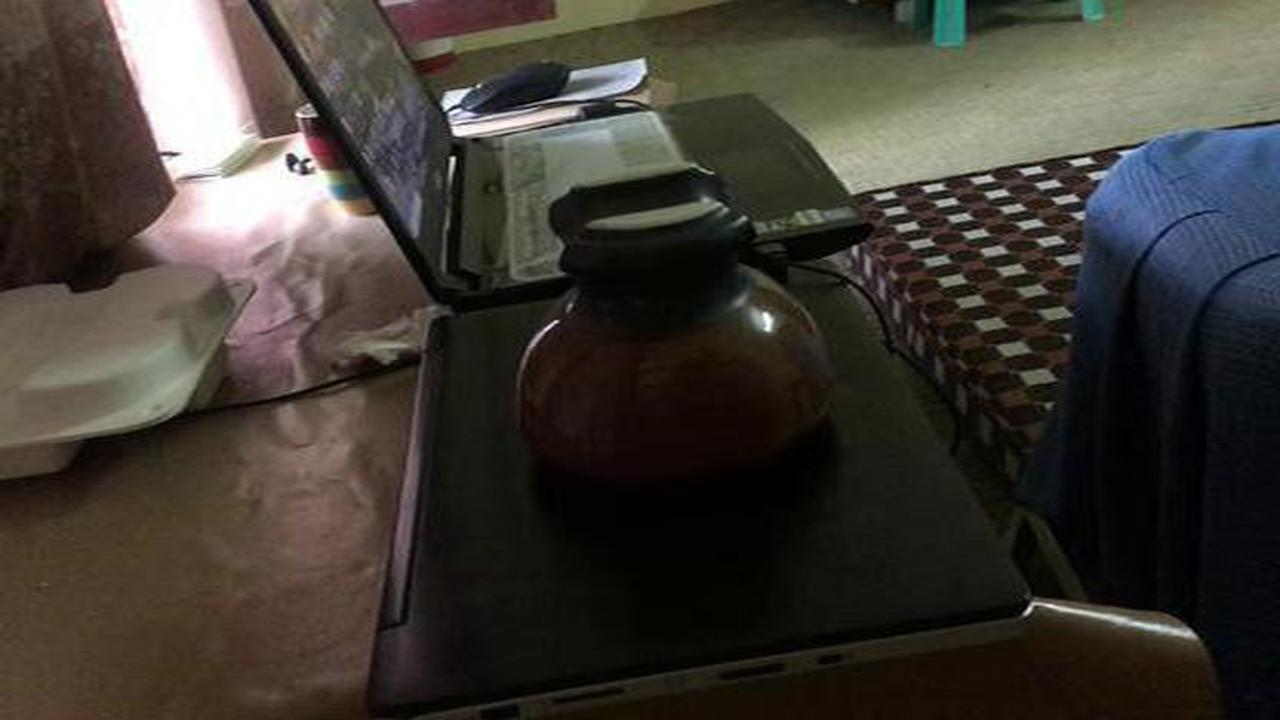insulator_pin: (502, 158, 859, 506)
